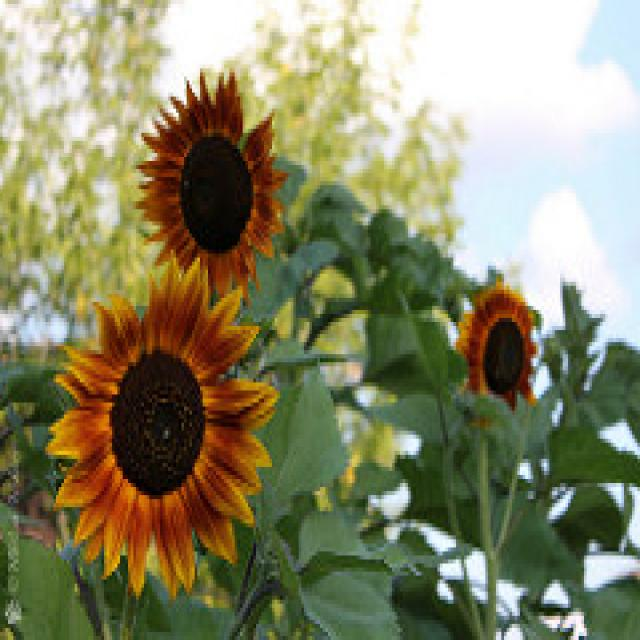sunflower: (45, 264, 275, 602), (137, 64, 287, 302), (454, 268, 542, 420)
